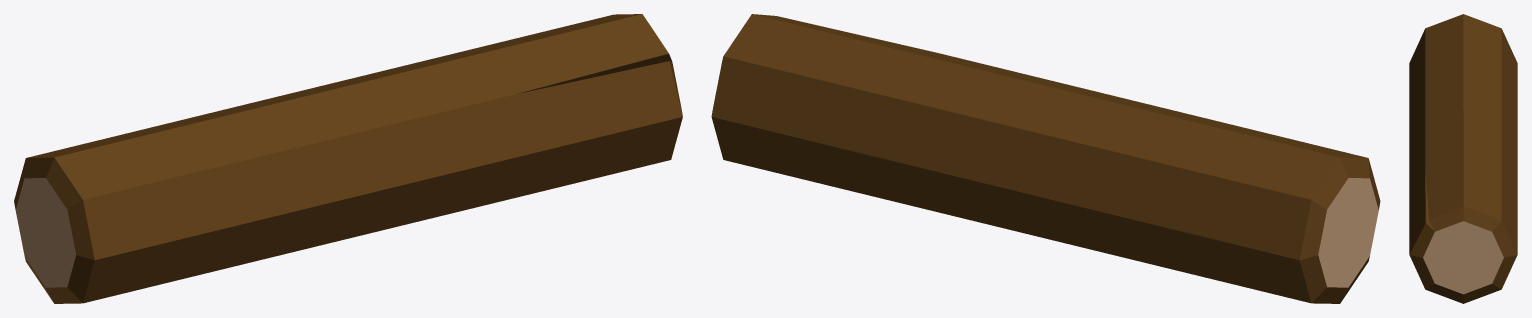
File: woodlog.fbx
3 views of the same model, side by side, from view 1: azimuth 30°, elevation 25°; view 2: azimuth 150°, elevation 25°; view 3: azimuth 270°, elevation 25° (orthographic). The views are drawn at different scales.
Visible parts, largest first — view 1: Cylinder; view 2: Cylinder; view 3: Cylinder.
Part boxes in pixels (<box>): Cylinder: <box>14,14,682,303</box>; Cylinder: <box>711,14,1380,303</box>; Cylinder: <box>1409,14,1517,303</box>.
Bounding box in the file's own units: 154 × 35.7 × 35.7.
